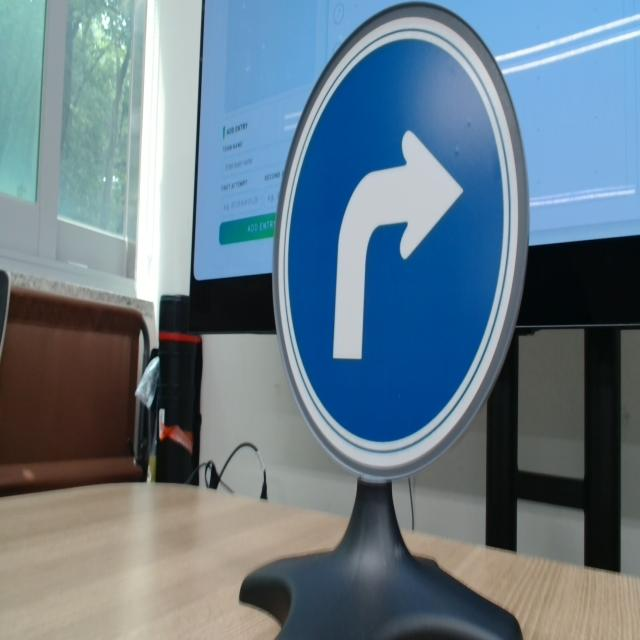right_dierection: (270, 0, 533, 479)
